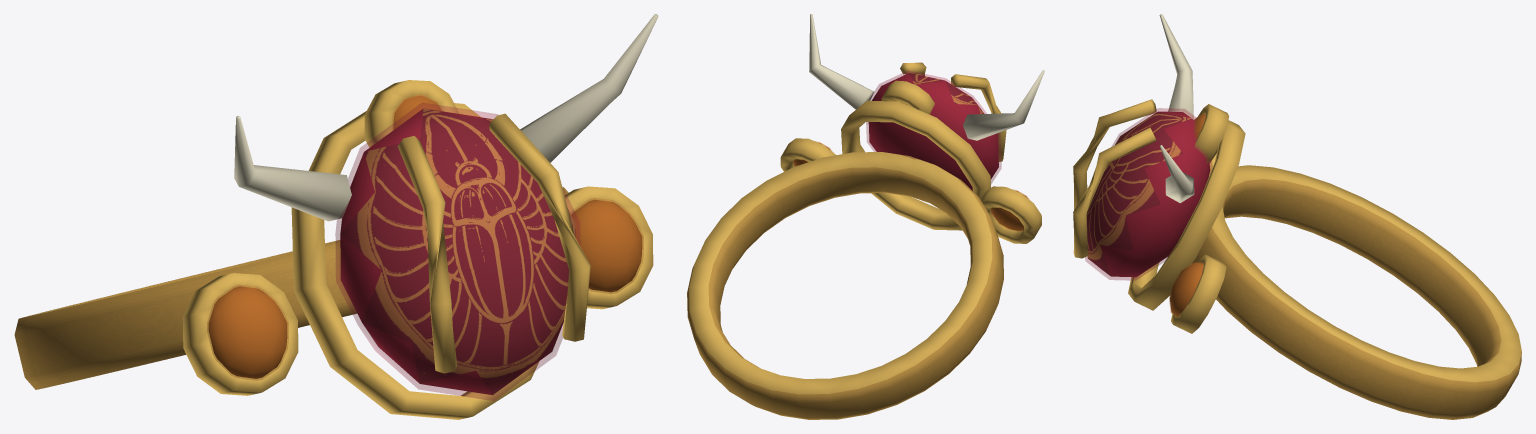
The model's file is item_ring10.glb.
3 views of the same model, side by side, from view 1: azimuth 30°, elevation 25°; view 2: azimuth 150°, elevation 25°; view 3: azimuth 270°, elevation 25° (orthographic). The views are drawn at different scales.
Visible parts, largest first — view 1: jewellery_ring10, jewellery_ring10_glass; view 2: jewellery_ring10, jewellery_ring10_glass; view 3: jewellery_ring10, jewellery_ring10_glass.
Part boxes in pixels (x1,y1,x2,y2): jewellery_ring10: (14, 14, 658, 419); jewellery_ring10_glass: (207, 94, 643, 400); jewellery_ring10: (687, 14, 1044, 419); jewellery_ring10_glass: (793, 70, 1029, 231); jewellery_ring10: (1073, 14, 1521, 419); jewellery_ring10_glass: (1085, 108, 1212, 317).
Bounding box in the file's own units: 0.79 × 0.7239 × 0.9531.
Materials: 8 (2 with a texture image).
